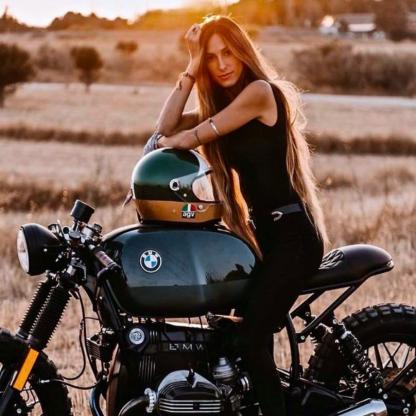helmet: (131, 146, 222, 228)
nohelmet: (198, 15, 252, 91)
